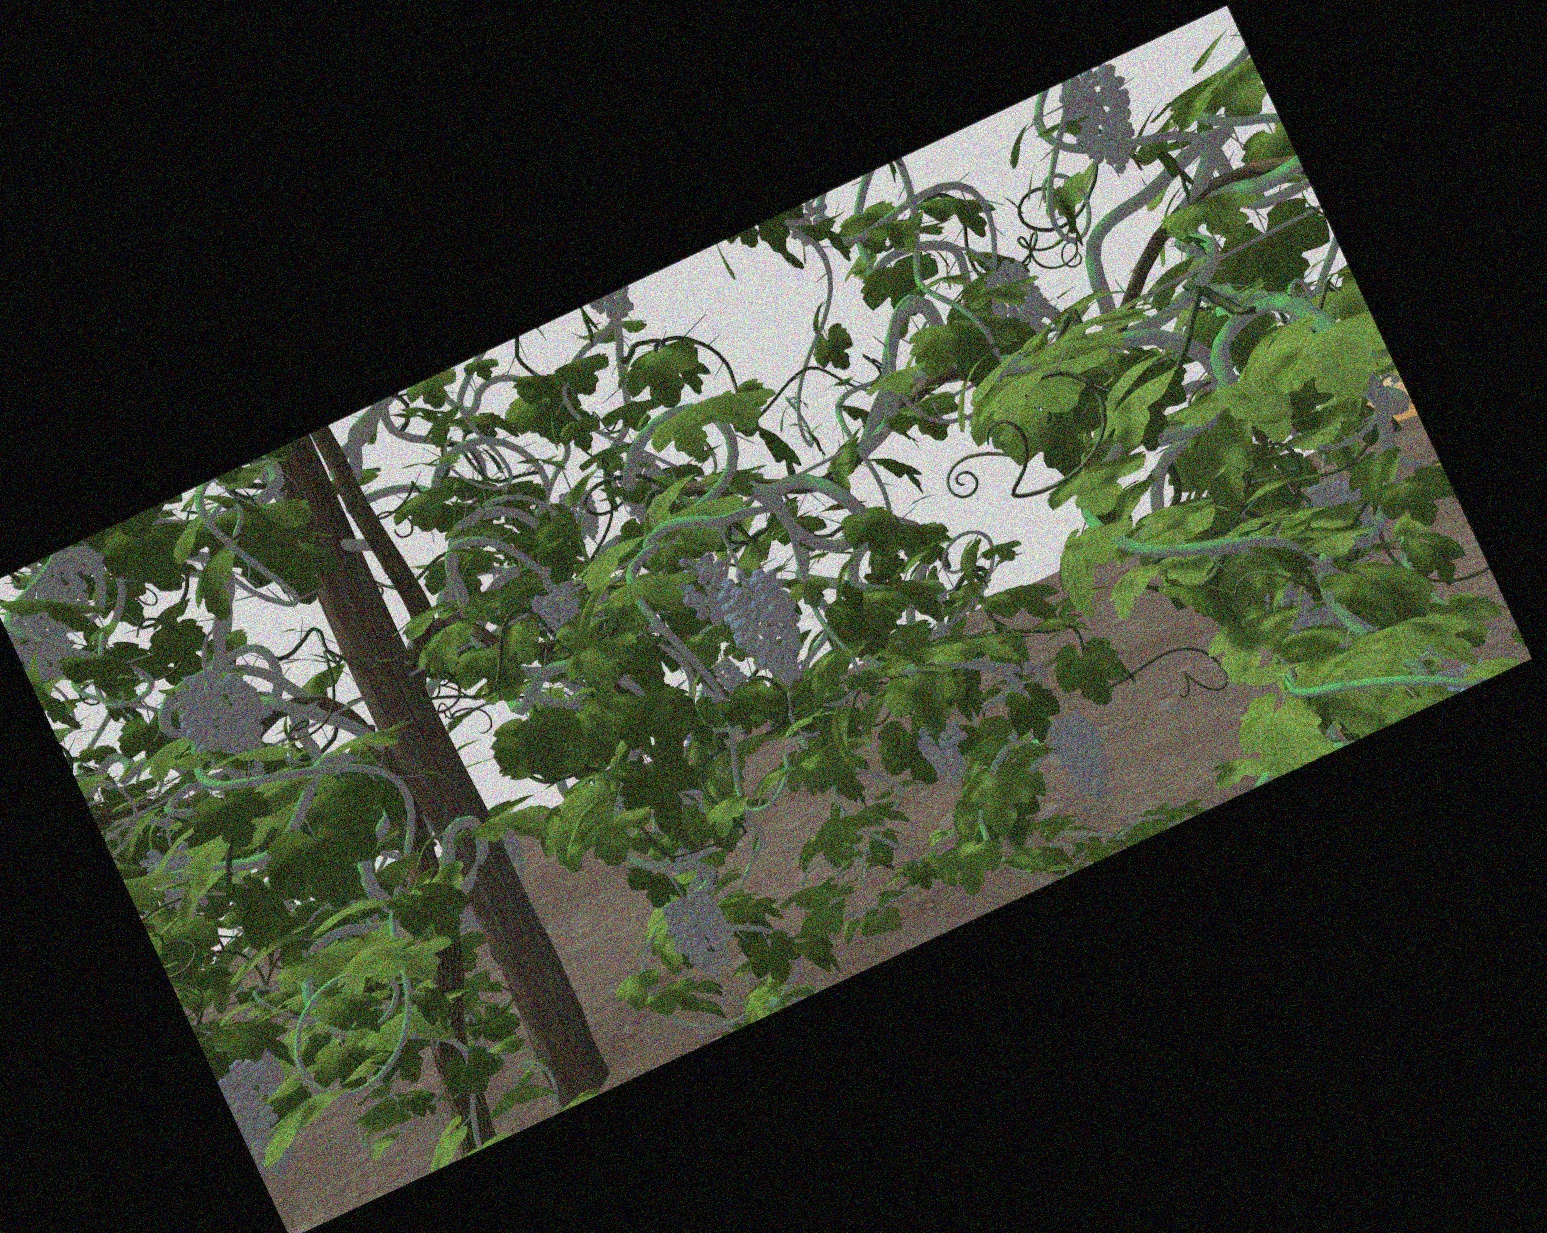grape: (735, 570, 800, 687), (179, 666, 259, 757), (1068, 74, 1139, 171), (675, 891, 735, 986), (1051, 711, 1108, 803), (235, 1057, 284, 1161), (680, 557, 729, 632), (921, 723, 973, 781), (535, 586, 580, 630)
